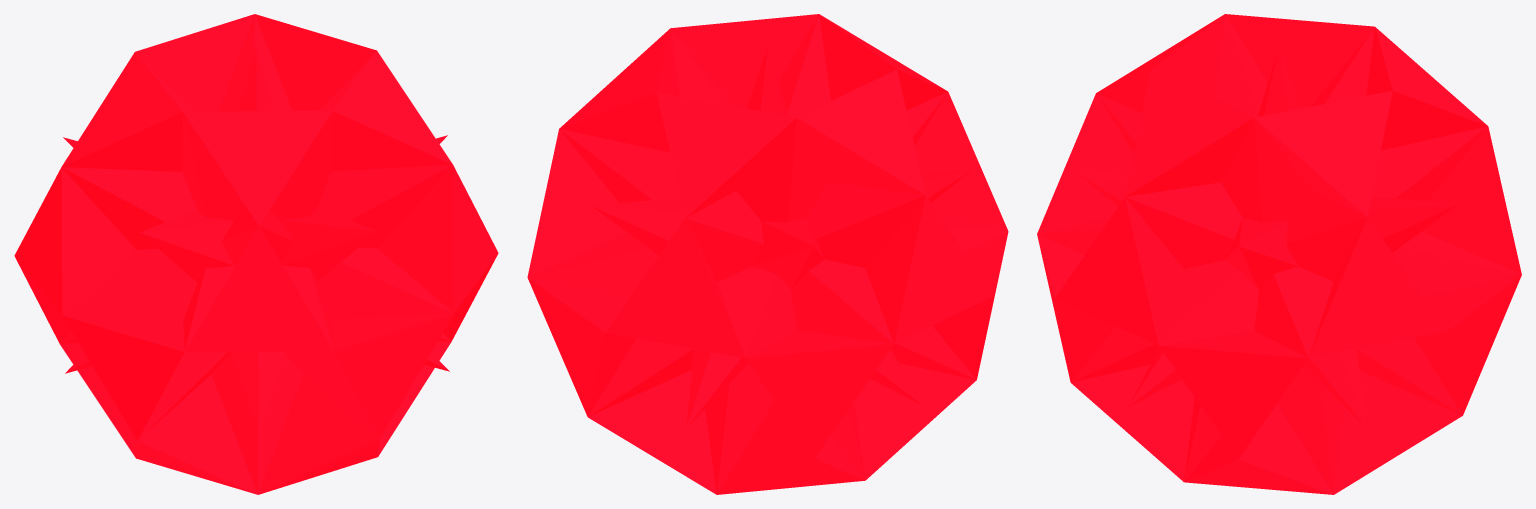
File: seeddrop2.dae
The picture shows the model from 3 angles, left to right: view 1: azimuth 30°, elevation 25°; view 2: azimuth 150°, elevation 25°; view 3: azimuth 270°, elevation 25°; orthographic projection. The views are drawn at different scales.
Parts seen in each view (by area): view 1: Icosphere; view 2: Icosphere; view 3: Icosphere.
Part boxes in pixels (<box>): Icosphere: <box>14,14,498,494</box>; Icosphere: <box>527,14,1008,494</box>; Icosphere: <box>1037,14,1521,494</box>.
Size of the model in its own units: 0.2199 by 0.2073 by 0.2172.
